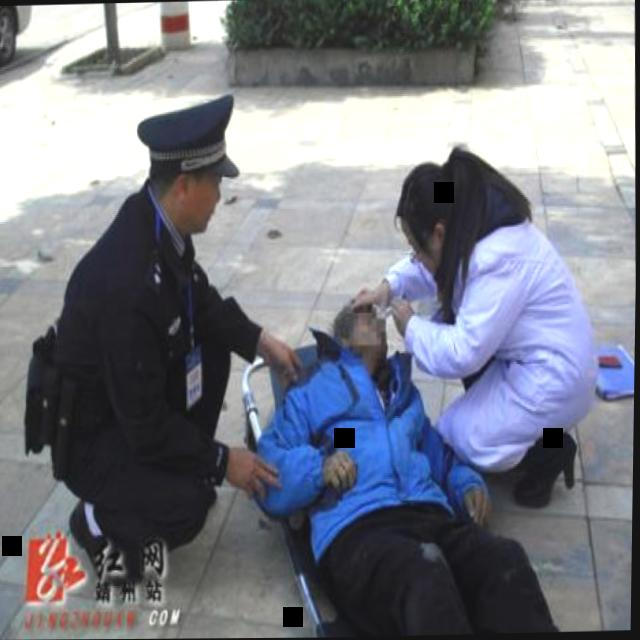Fall-Detected: (235, 255, 631, 639)
